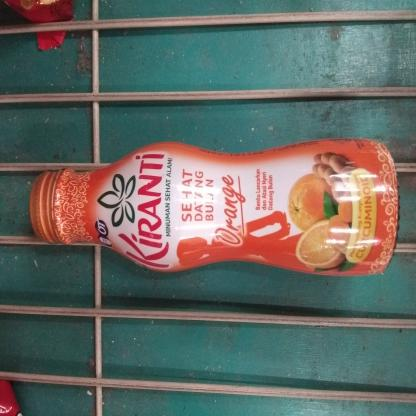bottle: (26, 133, 402, 283)
